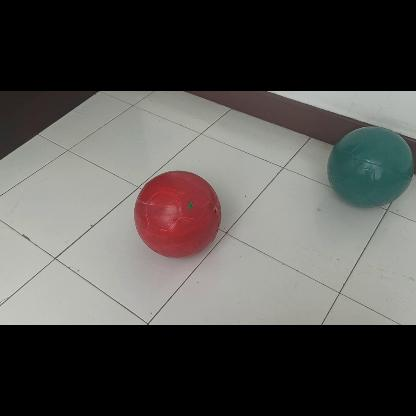red_ball: (134, 169, 221, 256)
